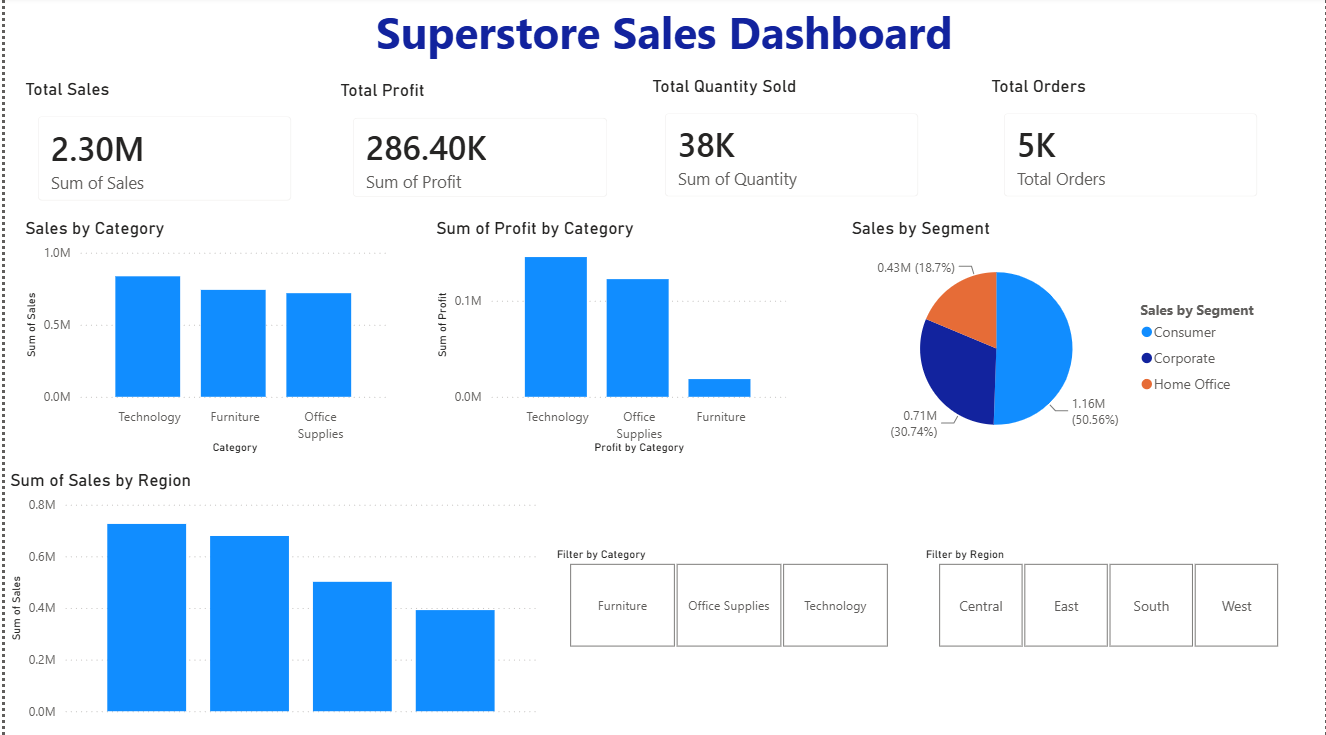

This screenshot's page, from the dashboard's own definition file:
{"tool":"powerbi","page":{"name":"Page 1","canvas":[1280,720],"ordinal":0},"visuals":[{"type":"cardVisual","title":"Total Sales","fields":{"Data":["Sum(Sample - Superstore.Sales)"]},"box":[14.6,79.3,280.1,136],"z":0},{"type":"cardVisual","title":"Total Profit","fields":{"Data":["Sum(Sample - Superstore.Profit)"]},"box":[320.6,81,281.7,131.2],"z":1000},{"type":"cardVisual","title":"Total Quantity Sold","fields":{"Data":["Sum(Sample - Superstore.Quantity)"]},"box":[623.4,77.7,280.1,134.4],"z":2000},{"type":"cardVisual","title":"Total Orders","fields":{"Data":["Sample - Superstore.Total Orders"]},"box":[952.1,77.7,280.1,134.4],"z":3000},{"type":"clusteredColumnChart","title":"Sales by Category","fields":{"Category":["Sample - Superstore.Category"],"Y":["Sum(Sample - Superstore.Sales)"]},"box":[14.6,215.4,362.7,233.2],"z":4000},{"type":"clusteredColumnChart","fields":{"Category":["Sample - Superstore.Region"],"Y":["Sum(Sample - Superstore.Sales)"]},"box":[0,459.9,523,247.7],"z":5000},{"type":"slicer","fields":{"Values":["Sample - Superstore.Region"]},"box":[880.9,529.5,378.9,108.5],"z":6000},{"type":"slicer","fields":{"Values":["Sample - Superstore.Category"]},"box":[523,529.5,357.8,108.5],"z":7000},{"type":"pieChart","title":"Sales by Segment","fields":{"Category":["Sample - Superstore.Segment"],"Y":["Sum(Sample - Superstore.Sales)"]},"box":[816.1,215.4,416.1,233.2],"z":8000},{"type":"textbox","box":[0,0,1279.4,81.3],"z":9000},{"type":"clusteredColumnChart","fields":{"Category":["Sample - Superstore.Category"],"Y":["Sum(Sample - Superstore.Profit)"]},"box":[412.9,215.4,349.8,233.2],"z":10000}]}

Visuals, with their boxes in screenshot pixels (x1, y1, x2, y2), scaled from the page's 1280x720 canvas onto the 1326x735 screenshot:
"Total Sales" cardVisual: box(15, 81, 305, 220)
"Total Profit" cardVisual: box(332, 83, 624, 217)
"Total Quantity Sold" cardVisual: box(646, 79, 936, 217)
"Total Orders" cardVisual: box(986, 79, 1276, 217)
"Sales by Category" clusteredColumnChart: box(15, 220, 391, 458)
clusteredColumnChart - Sample - Superstore.Region x Sum(Sample - Superstore.Sales): box(0, 469, 542, 722)
slicer - Sample - Superstore.Region: box(913, 541, 1305, 651)
slicer - Sample - Superstore.Category: box(542, 541, 912, 651)
"Sales by Segment" pieChart: box(845, 220, 1276, 458)
textbox: box(0, 0, 1325, 83)
clusteredColumnChart - Sample - Superstore.Category x Sum(Sample - Superstore.Profit): box(428, 220, 790, 458)
